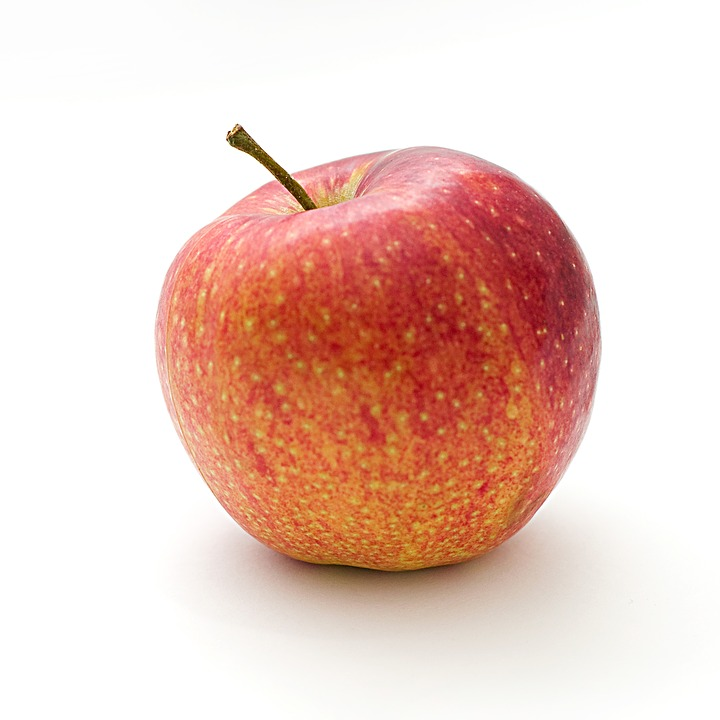apple: (148, 138, 604, 574)
